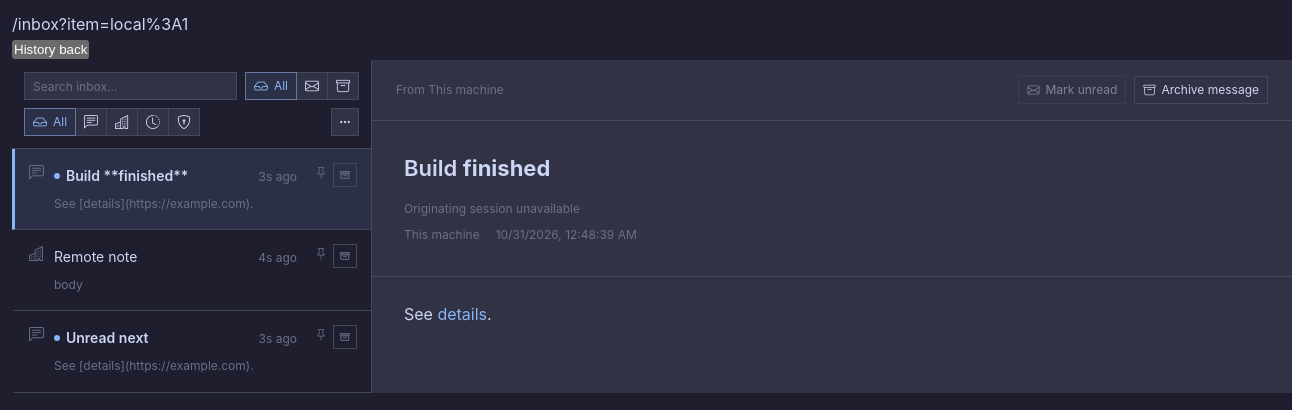
Scenario: Inbox › uses the unread filter even when reading hides the current row
expect the heading "Build finished" is shown: met, box [404,155,550,181]
Step 1. Click the radio button named "Unread" → [312, 86], box [296,72,328,100]
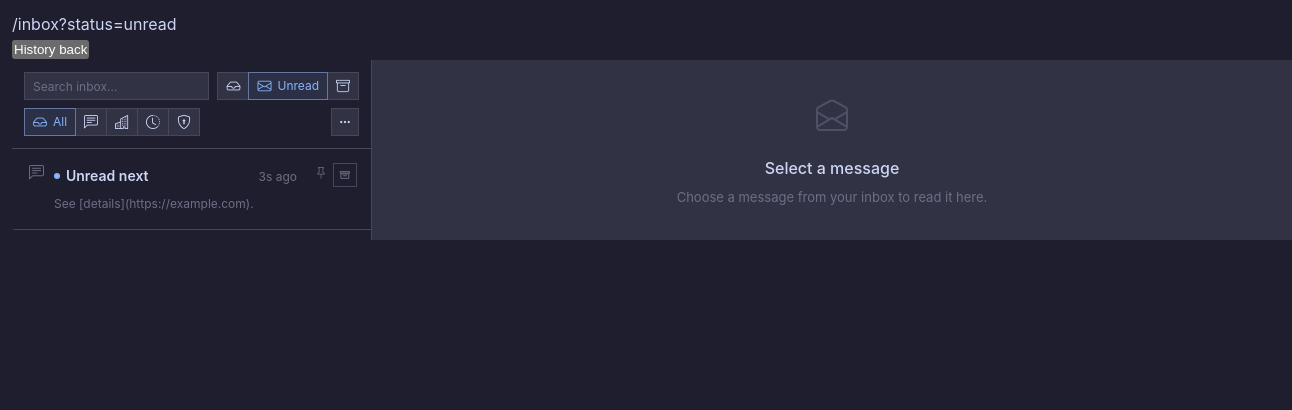
Step 2. Click the button "Unread next 3s ago See [details](https://example.com)." → [107, 176], box [44,149,311,229]
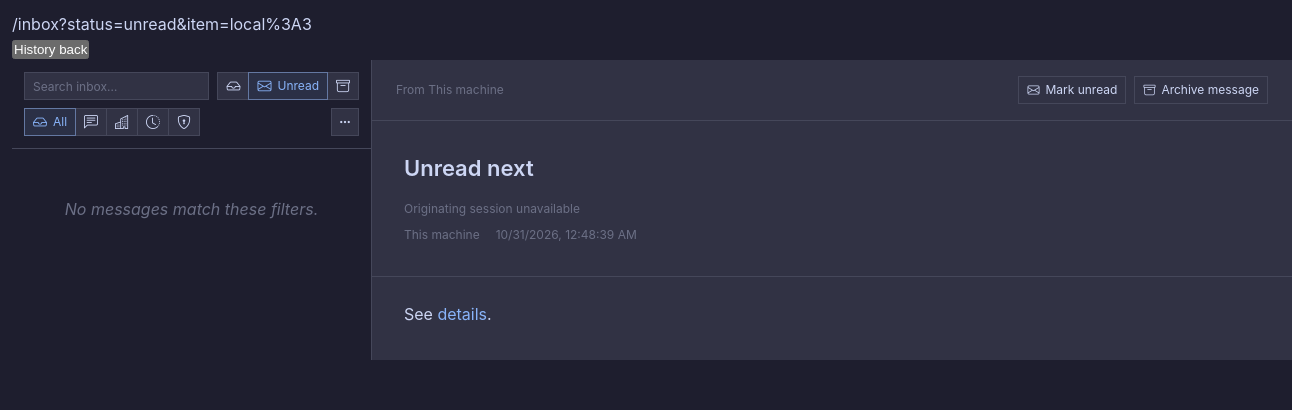
Step 3. Click the button "Archive message" → [1201, 90], box [1134,76,1268,104]
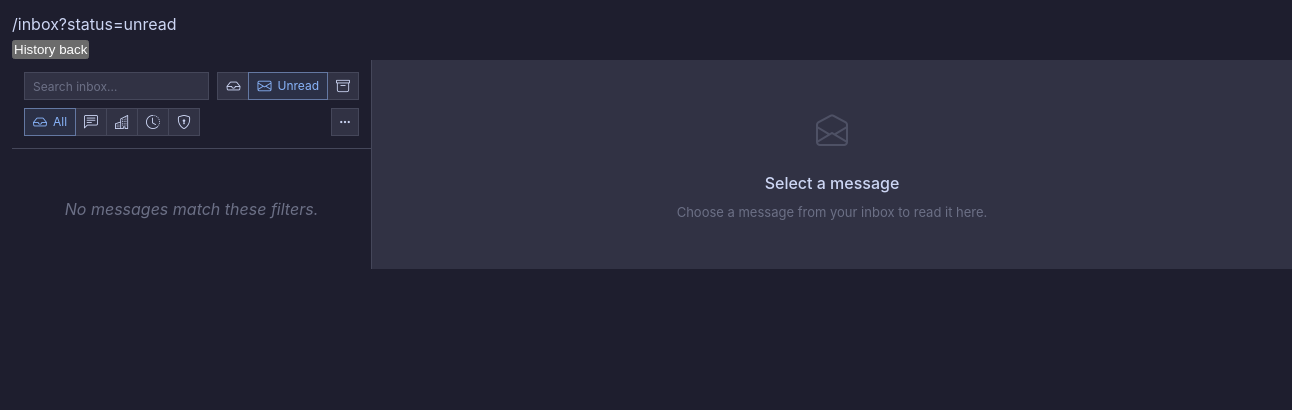
expect the button "Remote note" is not shown: met
expect the heading "Select a message" is shown: met, box [765,171,899,195]
